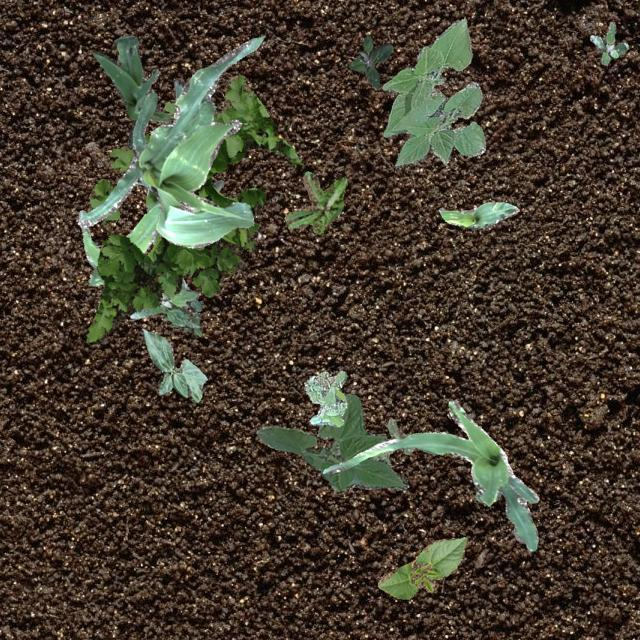crop: (77, 35, 263, 246), (322, 398, 538, 550), (144, 78, 223, 310), (382, 17, 484, 166), (255, 392, 408, 490), (92, 34, 170, 148), (78, 202, 160, 284), (377, 536, 468, 598), (140, 328, 207, 402), (438, 200, 518, 230)
weed: (86, 74, 300, 346), (284, 170, 346, 233), (128, 288, 202, 336), (348, 34, 392, 88), (304, 370, 346, 426), (372, 418, 414, 466), (588, 21, 628, 64)
